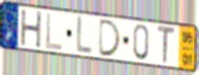0: (133, 23, 151, 62)
D: (97, 18, 123, 58)
H: (20, 9, 43, 49)
L: (44, 11, 63, 52), (75, 15, 94, 56)
T: (157, 25, 176, 66)
